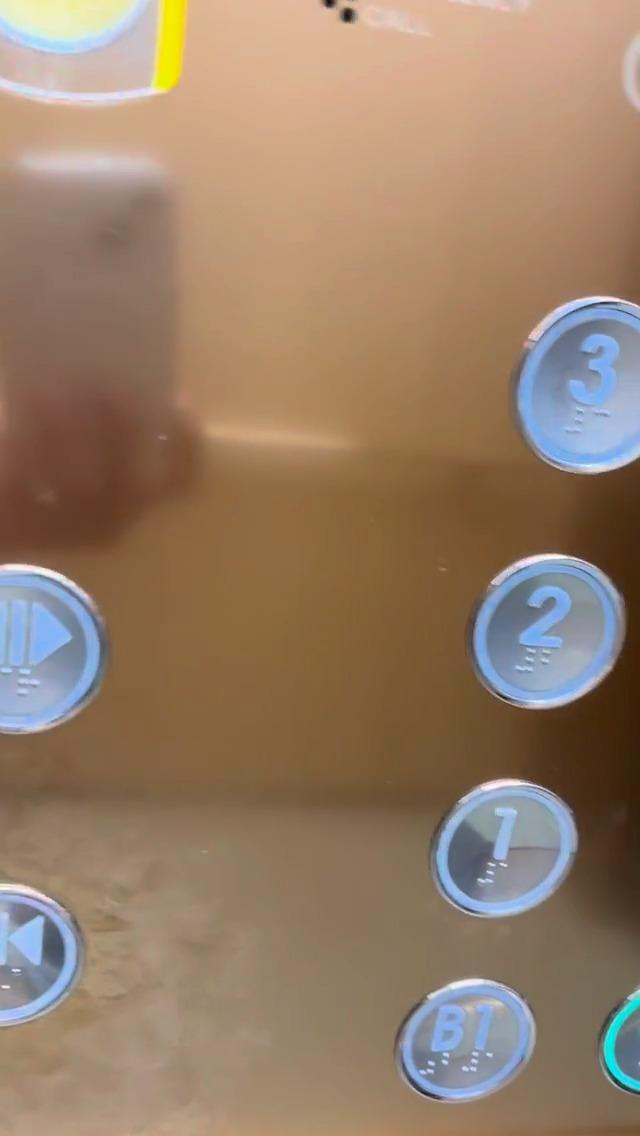button: (404, 977, 553, 1106), (443, 776, 569, 921), (491, 563, 626, 693)
